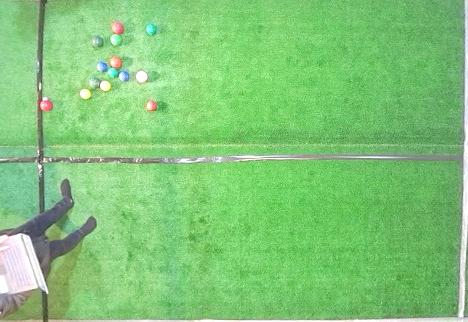blue: (97, 62, 107, 72), (119, 72, 130, 81)
green: (110, 34, 122, 46), (89, 77, 100, 89), (145, 24, 156, 36), (92, 37, 103, 48), (108, 68, 119, 78)
red: (135, 70, 148, 83), (111, 22, 124, 34), (110, 56, 122, 68), (40, 100, 53, 111), (146, 100, 157, 111)
vline: (1, 1, 45, 210), (456, 1, 467, 321), (1, 292, 50, 321)
white: (42, 97, 48, 101)
yellow: (100, 81, 111, 91), (80, 89, 91, 99)
